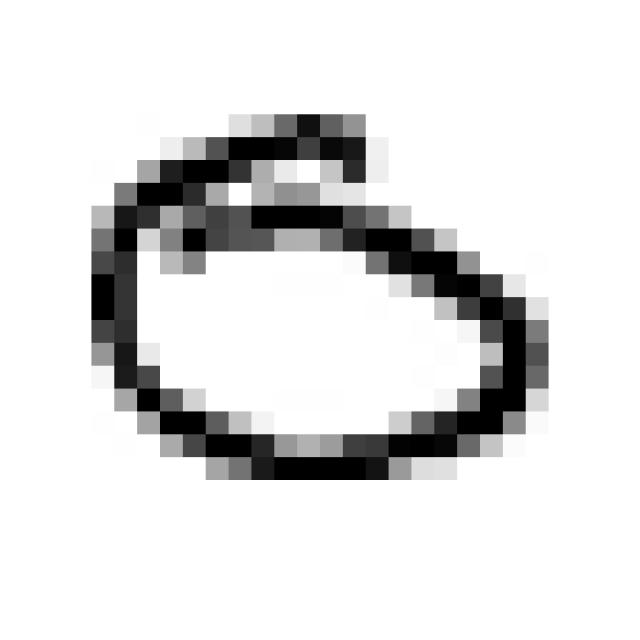5 -five-: (71, 99, 562, 498)
